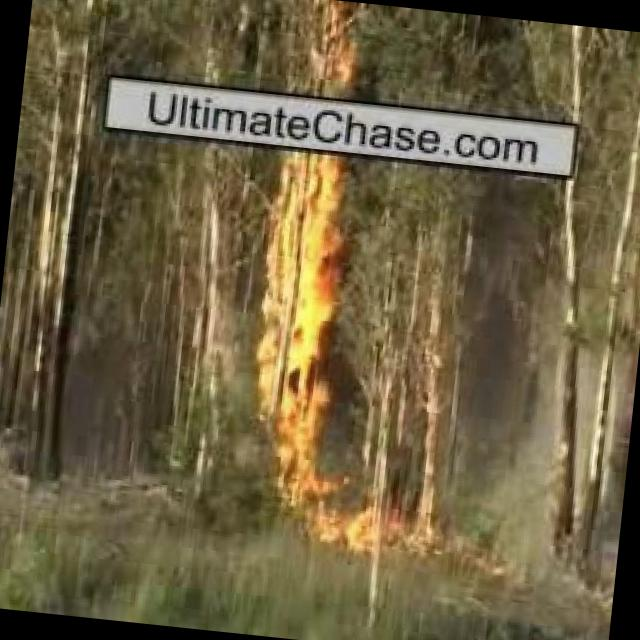Fire: (255, 151, 350, 425), (256, 427, 438, 558), (311, 7, 368, 86)
